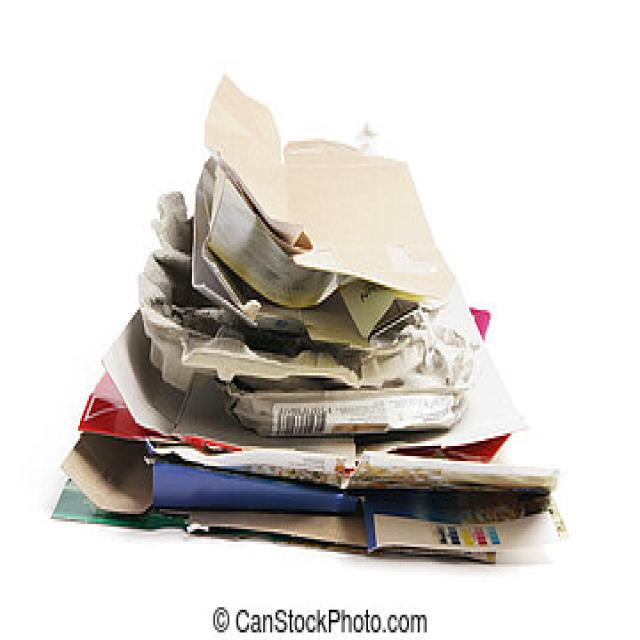PaperCardboard: (49, 81, 572, 576)
